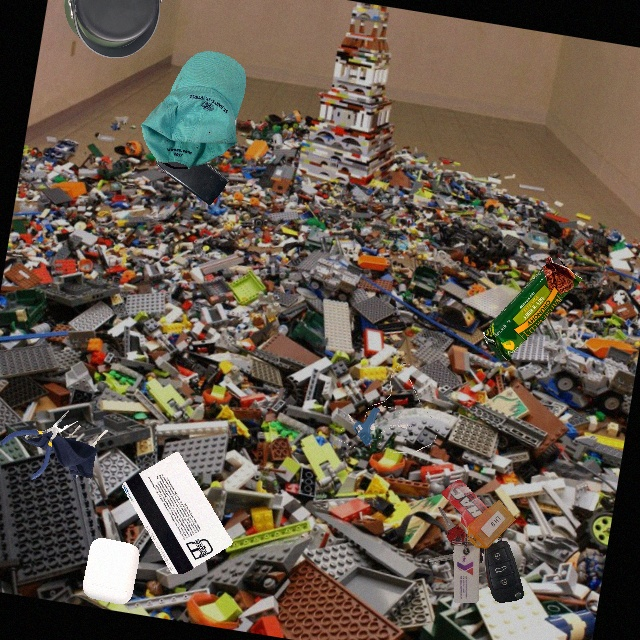Airpods: (62, 520, 157, 615)
Bottle: (55, 0, 178, 69)
Calculator: (151, 134, 231, 214)
Granola Bar: (457, 237, 587, 367)
Hat: (134, 49, 255, 169)
Hot Glue Gun: (339, 358, 444, 463)
Keys: (406, 474, 548, 616)
Mask: (12, 394, 109, 491)
Pliers: (0, 397, 88, 484)
Ucard: (119, 446, 247, 574)
